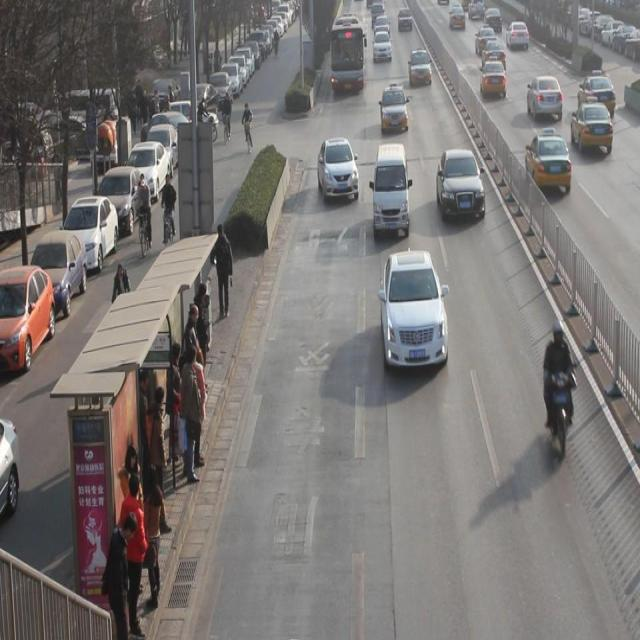car: (381, 253, 448, 372), (437, 149, 485, 223), (525, 127, 572, 194), (317, 138, 359, 202), (571, 96, 614, 154), (578, 69, 616, 117), (527, 76, 564, 122), (381, 82, 408, 136), (480, 55, 506, 100), (409, 49, 431, 87), (482, 38, 506, 72), (475, 24, 497, 54), (507, 21, 529, 49), (373, 32, 392, 62)
truck: (374, 142, 409, 235)
van: (330, 10, 364, 94)
